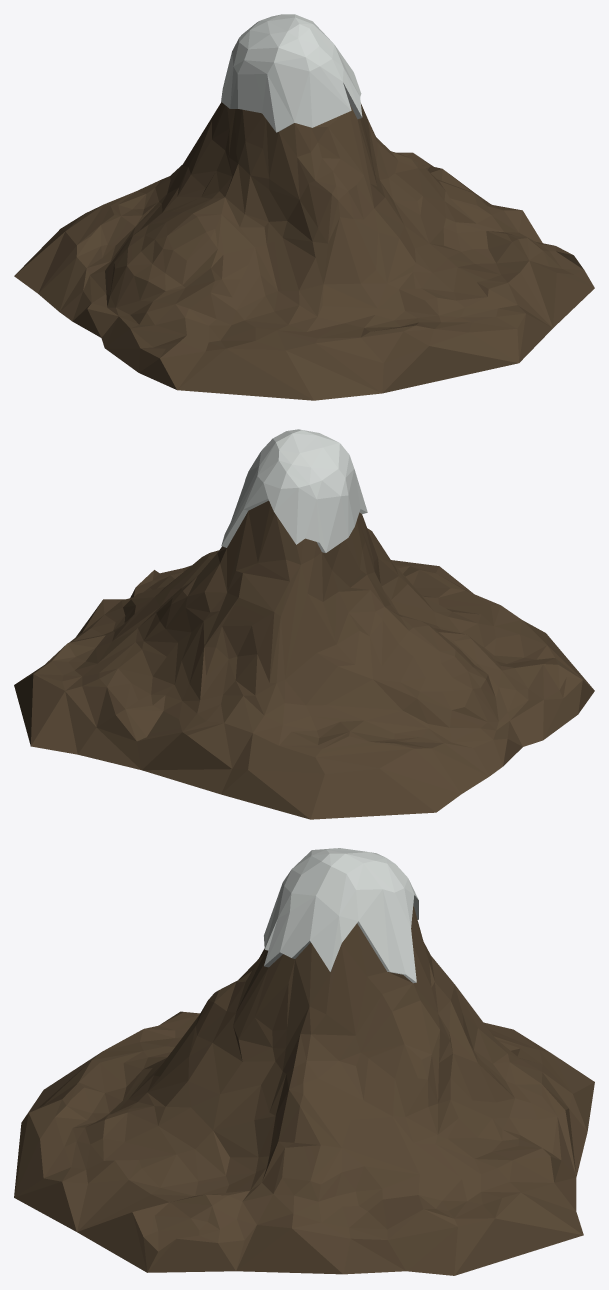
File: SM_Env_HillSnow_03.gltf
3 views of the same model, one above another, from view 1: azimuth 30°, elevation 25°; view 2: azimuth 150°, elevation 25°; view 3: azimuth 270°, elevation 25° (orthographic). The views are drawn at different scales.
Parts seen in each view (by area): view 1: SM_Env_HillSnow_03; view 2: SM_Env_HillSnow_03; view 3: SM_Env_HillSnow_03.
Boxes of the visible parts, left/top/right/bottom form: SM_Env_HillSnow_03: left=14, top=14, right=594, bottom=400; SM_Env_HillSnow_03: left=14, top=429, right=594, bottom=819; SM_Env_HillSnow_03: left=14, top=848, right=594, bottom=1275.
Size of the model in its own units: 11.15 by 6.37 by 11.21.
1 material, 1 textured.
